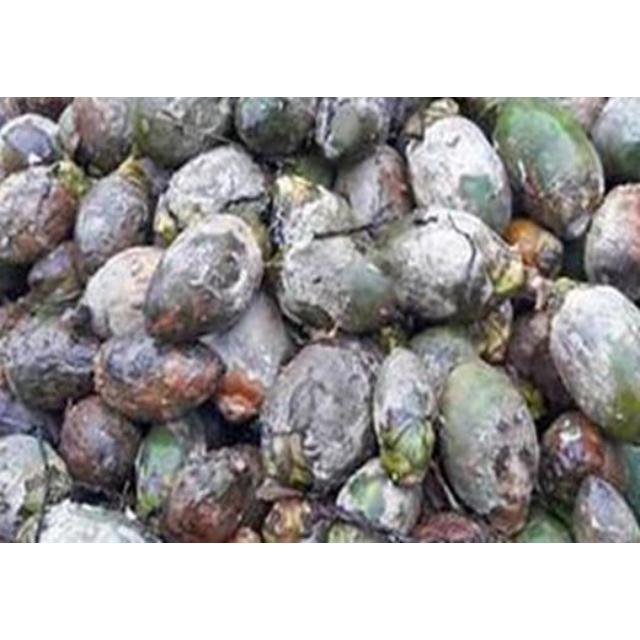damaged: (459, 99, 609, 238), (260, 336, 382, 494), (271, 188, 399, 336), (436, 357, 540, 521), (147, 217, 261, 346), (392, 207, 522, 317), (402, 114, 516, 236), (549, 284, 639, 438), (198, 292, 294, 422), (96, 329, 222, 425), (158, 144, 272, 238), (72, 154, 158, 276), (2, 309, 98, 415), (162, 446, 262, 544), (0, 162, 82, 268), (80, 246, 166, 344), (58, 396, 142, 494), (537, 409, 619, 505), (130, 97, 234, 169), (335, 142, 413, 234), (0, 432, 66, 534), (134, 420, 200, 520), (272, 176, 356, 254), (584, 184, 640, 300), (372, 346, 436, 444), (408, 322, 490, 391), (71, 97, 141, 173), (36, 502, 158, 544), (235, 98, 317, 158), (506, 306, 558, 399), (311, 98, 385, 162), (570, 477, 640, 541), (0, 113, 66, 179), (355, 98, 423, 142), (1, 391, 54, 444), (410, 512, 488, 544), (284, 152, 332, 188)
